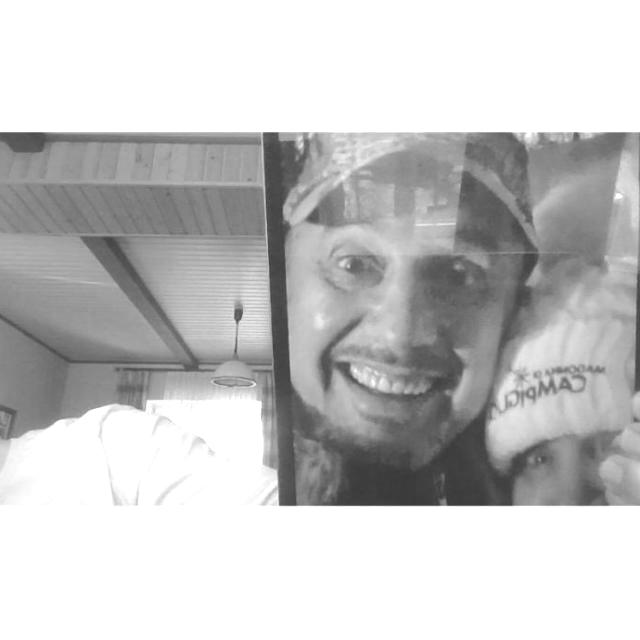fake: (265, 132, 640, 506)
